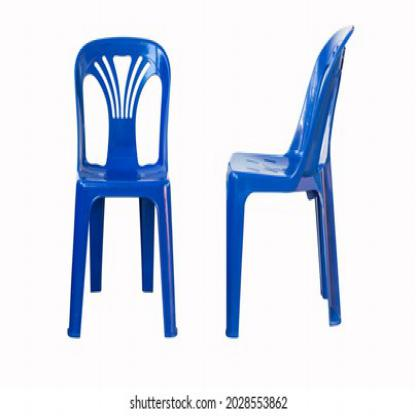chair: (224, 19, 358, 340), (68, 32, 180, 344)
